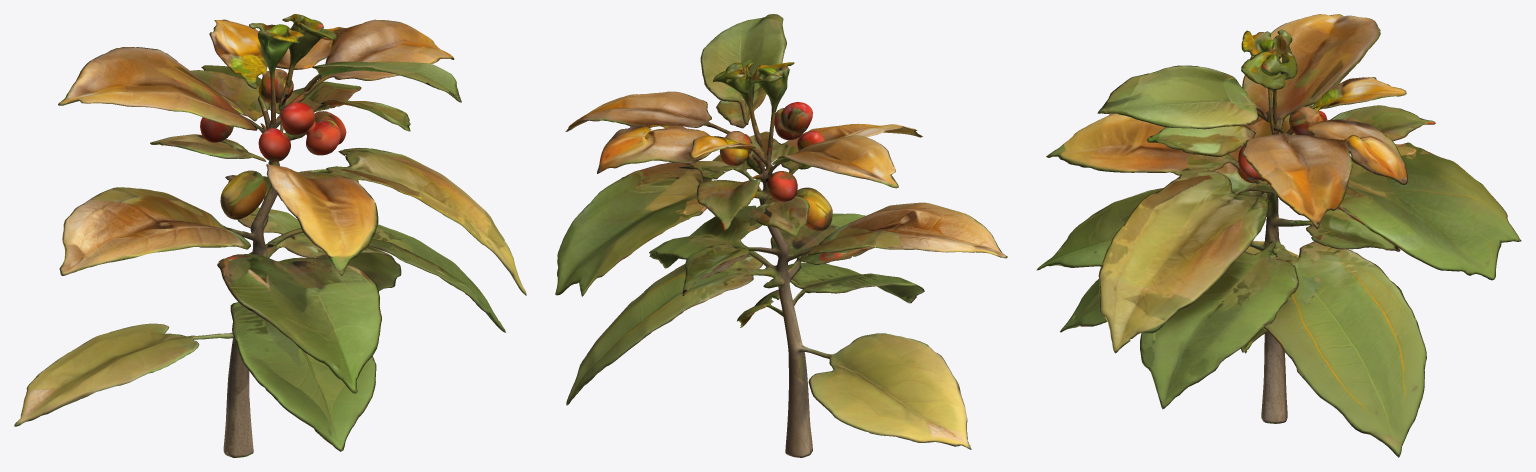
File: Ashwagandh_GLTF.gltf
The picture shows the model from 3 angles, left to right: view 1: azimuth 30°, elevation 25°; view 2: azimuth 150°, elevation 25°; view 3: azimuth 270°, elevation 25°; orthographic projection. The views are drawn at different scales.
Parts seen in each view (by area): view 1: Node #0; view 2: Node #0; view 3: Node #0.
Boxes of the visible parts, left/top/right/bottom form: Node #0: left=14, top=14, right=526, bottom=457; Node #0: left=555, top=14, right=1007, bottom=457; Node #0: left=1036, top=14, right=1521, bottom=457.
Size of the model in its own units: 2 by 1.8 by 1.99.
Materials: 1 (1 with a texture image).
